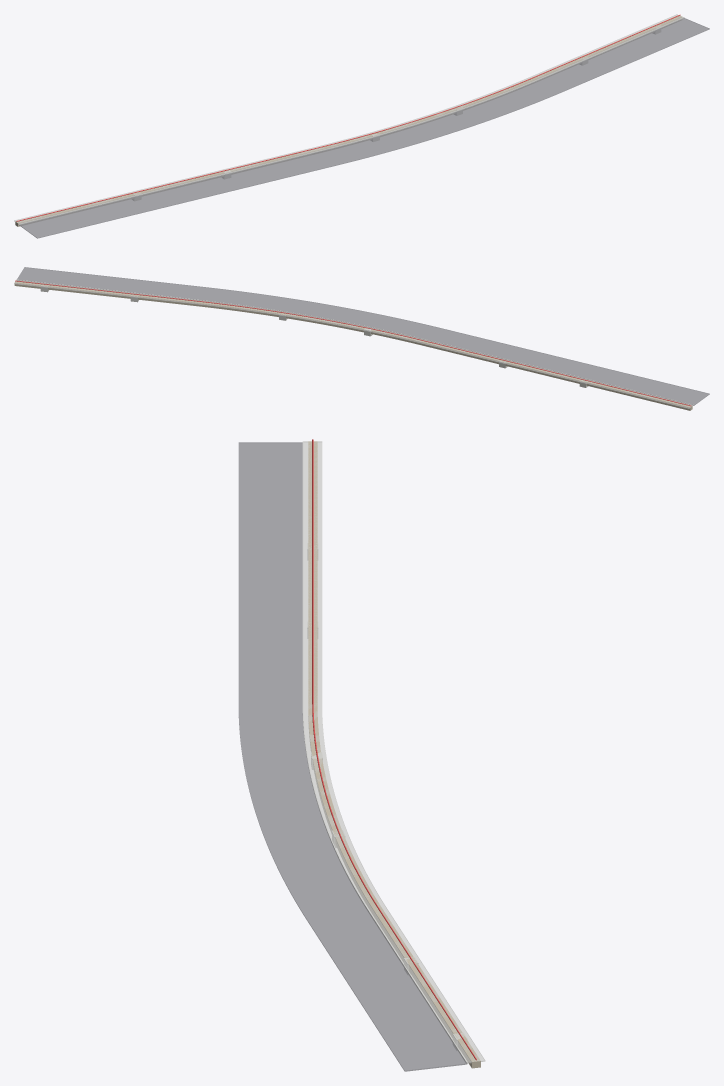
The picture shows the model from 3 angles, top to bottom: view 1: azimuth 30°, elevation 25°; view 2: azimuth 150°, elevation 25°; view 3: azimuth 270°, elevation 25°; orthographic projection. The views are drawn at different scales.
Visible parts, largest first — view 1: 道路|車道 (参考), 道路|歩道 (参考), 管路部|管路部 (掘削断面 1.5×1.15m を一体化), 道路|歩車道境界ブロック (参考), 線形|管路ルート (中心線); view 2: 道路|車道 (参考), 管路部|管路部 (掘削断面 1.5×1.15m を一体化), 道路|歩道 (参考), 道路|歩車道境界ブロック (参考), 線形|管路ルート (中心線); view 3: 道路|車道 (参考), 道路|歩道 (参考), 管路部|管路部 (掘削断面 1.5×1.15m を一体化), 道路|歩車道境界ブロック (参考), 線形|管路ルート (中心線).
Part boxes in pixels (box(x1,y1,x2,y2)): 道路|車道 (参考): box(19, 18, 709, 238); 道路|歩道 (参考): box(14, 14, 683, 224); 管路部|管路部 (掘削断面 1.5×1.15m を一体化): box(15, 15, 681, 226); 道路|歩車道境界ブロック (参考): box(19, 17, 684, 224); 線形|管路ルート (中心線): box(16, 14, 680, 221); 道路|車道 (参考): box(17, 267, 709, 405); 管路部|管路部 (掘削断面 1.5×1.15m を一体化): box(14, 281, 692, 410); 道路|歩道 (参考): box(14, 280, 693, 408); 道路|歩車道境界ブロック (参考): box(16, 279, 693, 405); 線形|管路ルート (中心線): box(15, 280, 691, 406); 道路|車道 (参考): box(238, 442, 466, 1071); 道路|歩道 (参考): box(303, 441, 485, 1063); 管路部|管路部 (掘削断面 1.5×1.15m を一体化): box(308, 441, 480, 1068); 道路|歩車道境界ブロック (参考): box(302, 441, 467, 1064); 線形|管路ルート (中心線): box(312, 439, 476, 1060).
Bounding box in the file's own units: 240 × 2.4 × 39.86.
